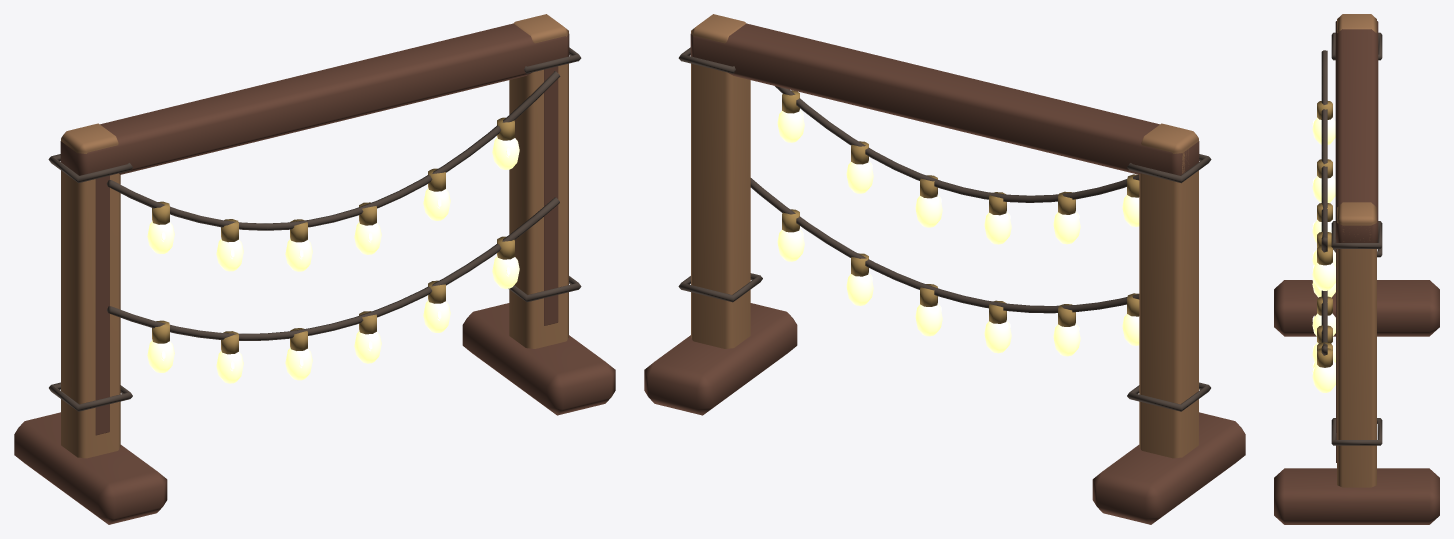
The model's file is fairy_lights.glb.
The picture shows the model from 3 angles, left to right: view 1: azimuth 30°, elevation 25°; view 2: azimuth 150°, elevation 25°; view 3: azimuth 270°, elevation 25°; orthographic projection. The views are drawn at different scales.
Visible parts, largest first — view 1: fairy_lights; view 2: fairy_lights; view 3: fairy_lights.
Boxes of the visible parts, x1=… form: fairy_lights: x1=14, y1=14, x2=615, y2=524; fairy_lights: x1=644, y1=14, x2=1245, y2=524; fairy_lights: x1=1274, y1=14, x2=1439, y2=524.
Size of the model in its own units: 0.9 by 0.59 by 0.29.
